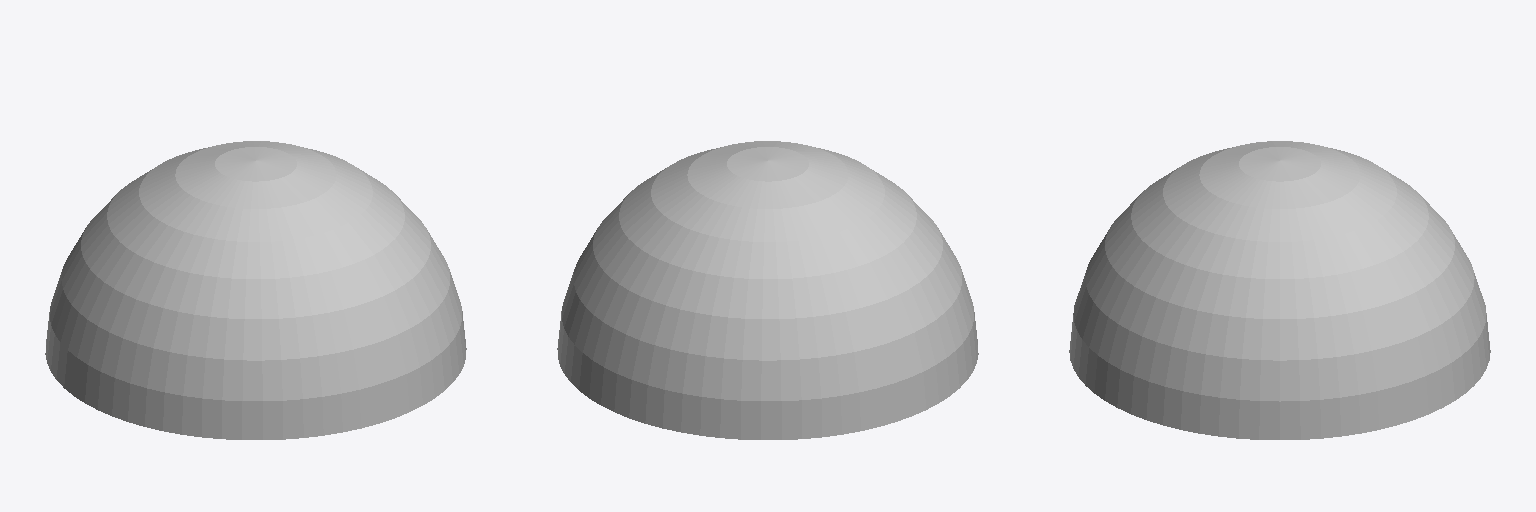
The model's file is Lode_Ieksa.obj.
3 views of the same model, side by side, from view 1: azimuth 30°, elevation 25°; view 2: azimuth 150°, elevation 25°; view 3: azimuth 270°, elevation 25° (orthographic).
Parts seen in each view (by area): view 1: Sphere.001; view 2: Sphere.001; view 3: Sphere.001.
Boxes of the visible parts, box(x1,y1,x2,y2) form: Sphere.001: box(45, 141, 466, 439); Sphere.001: box(557, 141, 978, 439); Sphere.001: box(1069, 141, 1490, 439).
Size of the model in its own units: 2 by 1 by 2.